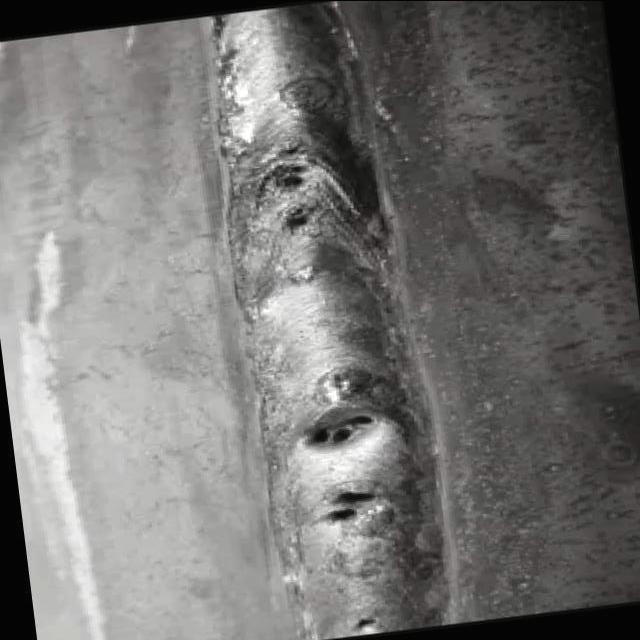defect: (296, 407, 383, 452), (310, 485, 387, 531), (270, 145, 312, 196), (272, 201, 319, 236), (350, 611, 382, 633)
